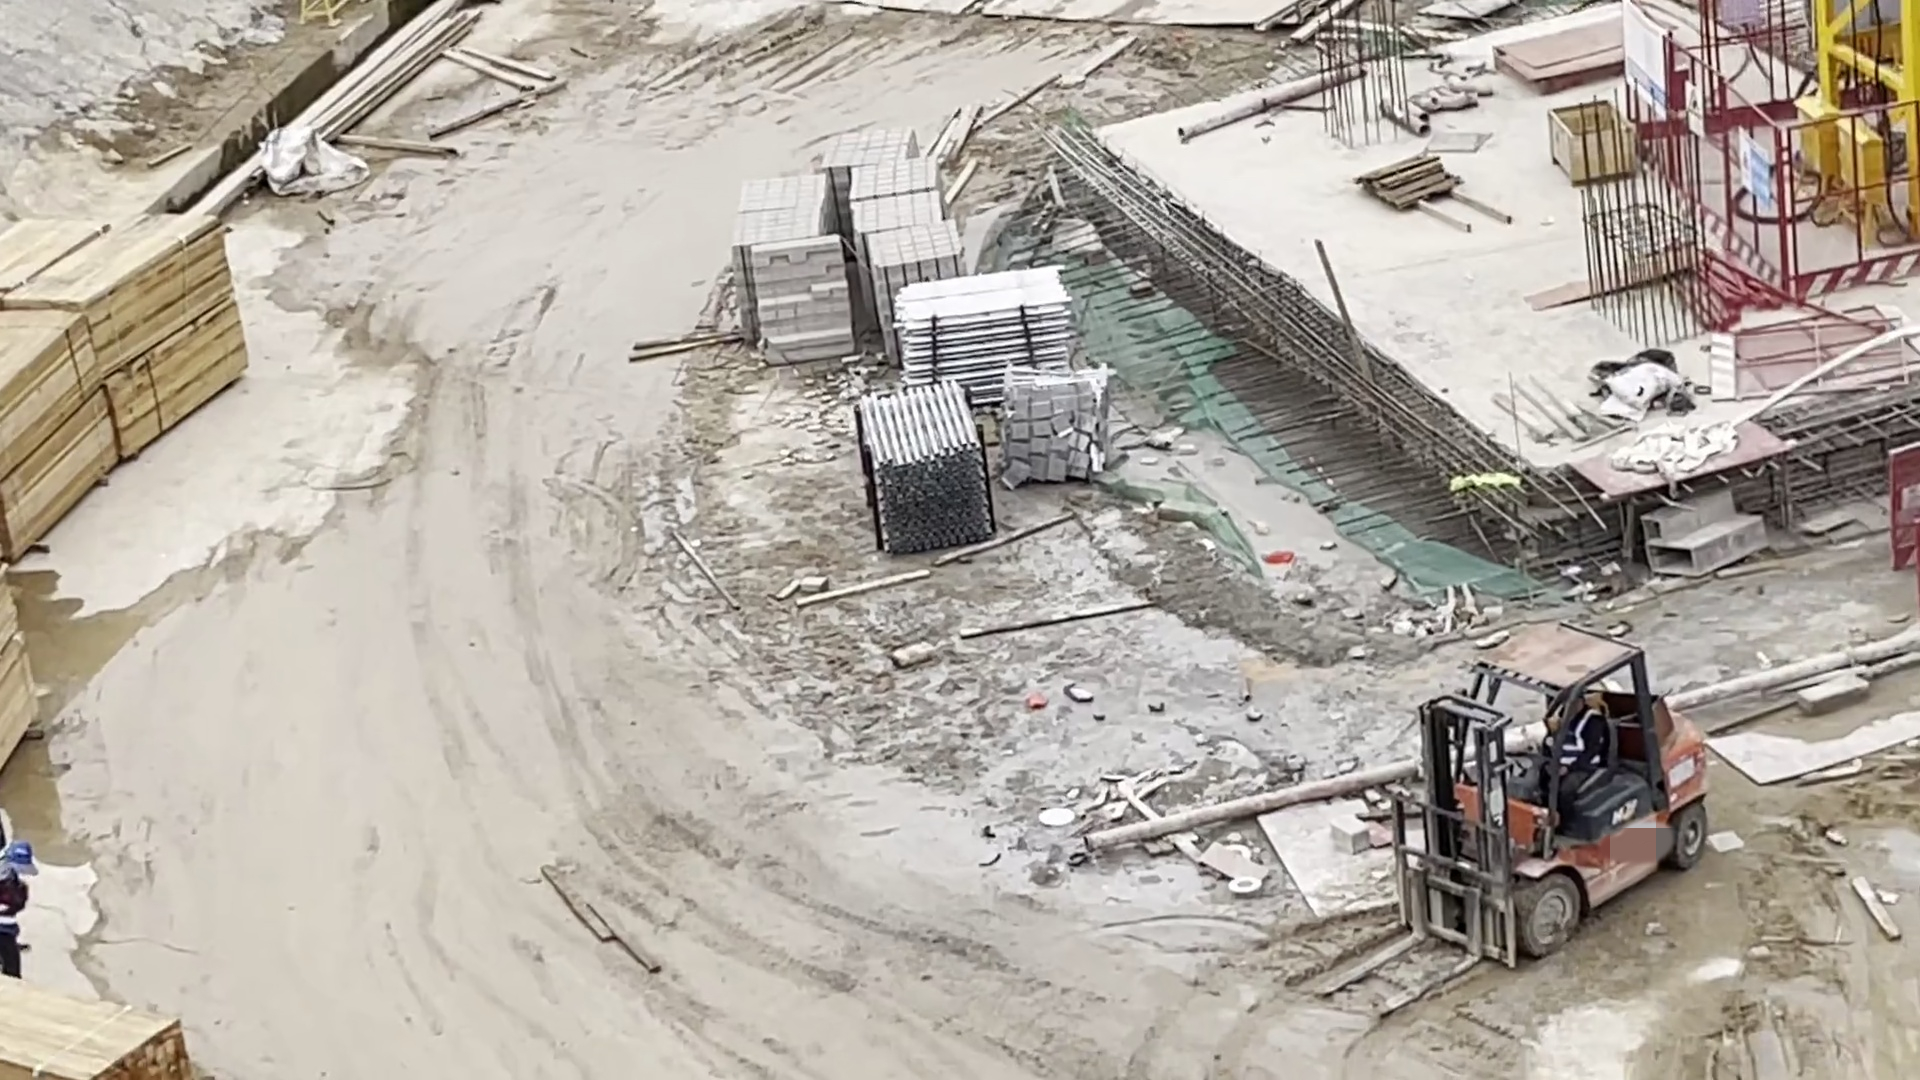brick: (822, 127, 961, 368), (735, 173, 855, 367)
scaffold: (893, 261, 1072, 407), (856, 378, 992, 554)
wood: (1, 215, 251, 556), (1, 967, 179, 1080), (1, 567, 40, 767)
